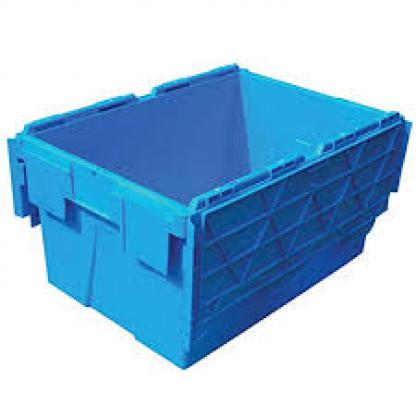plastic_box: (2, 57, 414, 368)
